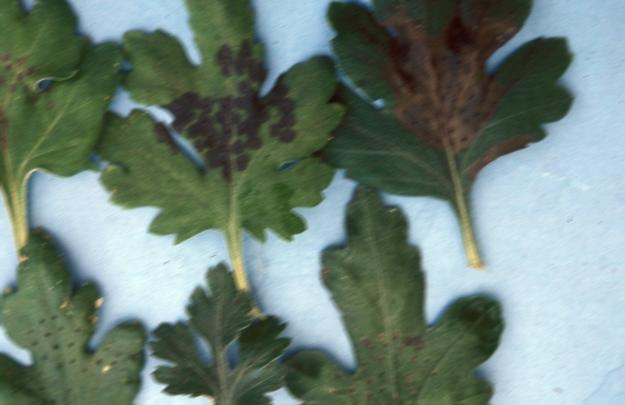Tomato leaf bacterial spot: (267, 171, 514, 405), (0, 0, 133, 244), (0, 207, 149, 405), (147, 269, 288, 405)
